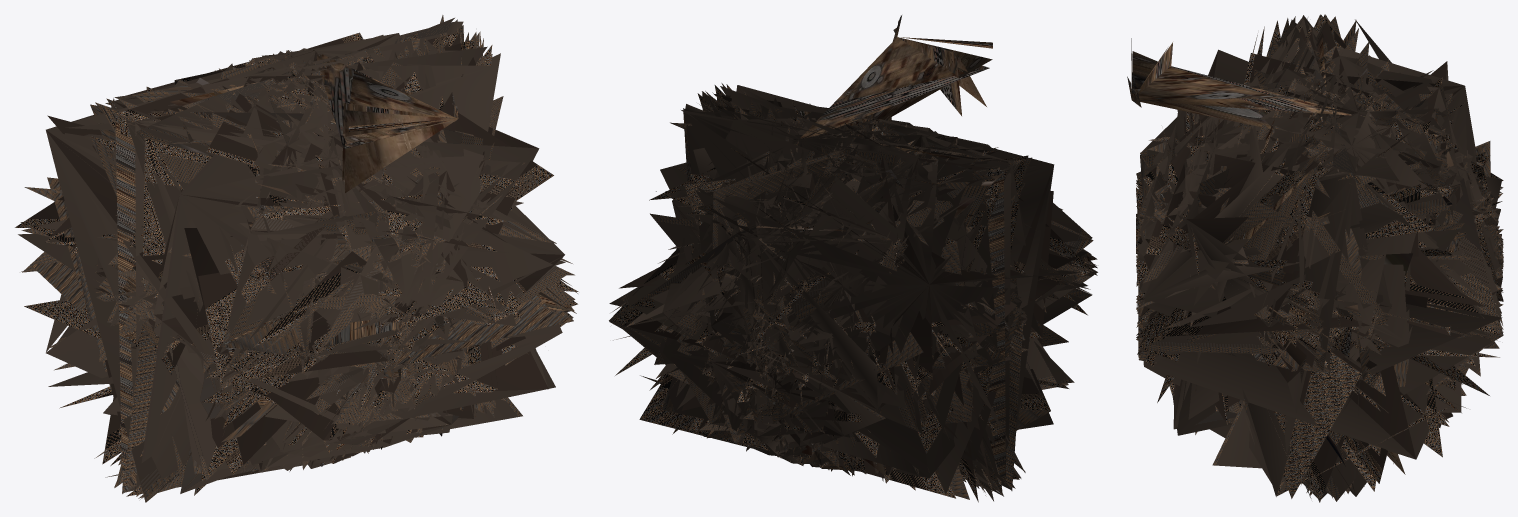
The model's file is cannon_01.glb.
3 renders of one model, left to right at view 1: azimuth 30°, elevation 25°; view 2: azimuth 150°, elevation 25°; view 3: azimuth 270°, elevation 25°, orthographic. The views are drawn at different scales.
Visible parts, largest first — view 1: cannon_01_frame, cannon_01_barrel; view 2: cannon_01_frame, cannon_01_barrel; view 3: cannon_01_frame, cannon_01_barrel.
Boxes of the visible parts, x1,y1,x2,y2 form: cannon_01_frame: (15, 15, 578, 502); cannon_01_barrel: (313, 50, 458, 192); cannon_01_frame: (609, 83, 1097, 502); cannon_01_barrel: (794, 15, 992, 145); cannon_01_frame: (1136, 14, 1503, 502); cannon_01_barrel: (1127, 38, 1365, 129).
Size of what is drawn, in the model's own units: 2 by 2.24 by 2.05.
1 material, 1 textured.
